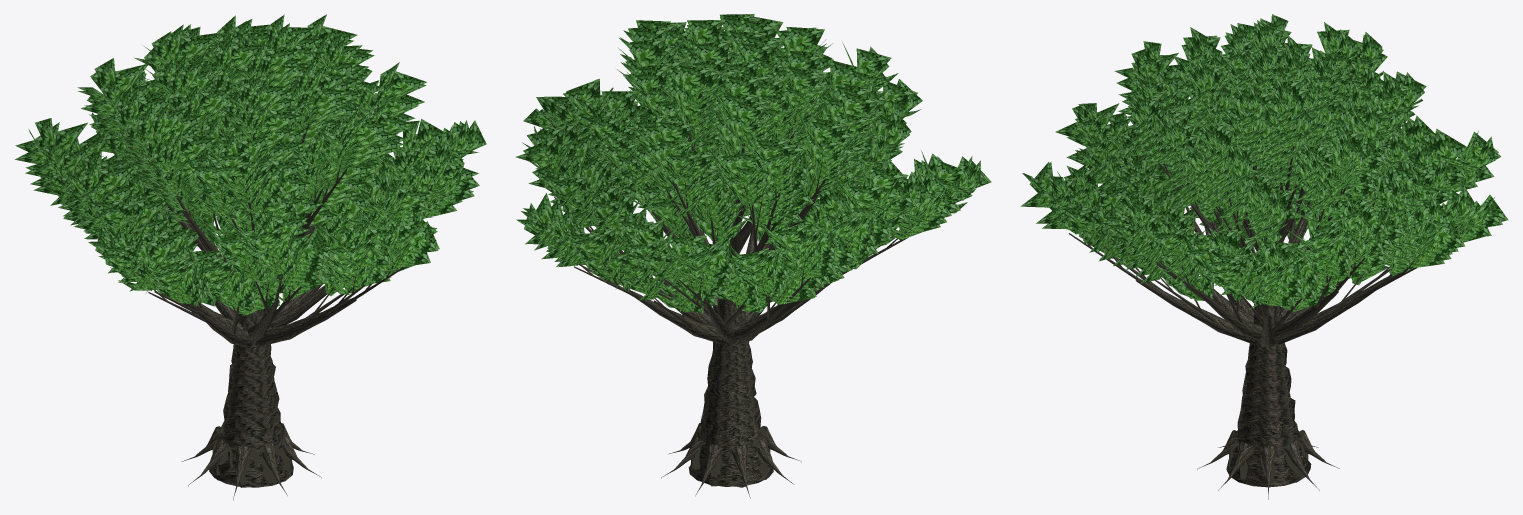
The model's file is tree_large.obj.
3 renders of one model, left to right at view 1: azimuth 30°, elevation 25°; view 2: azimuth 150°, elevation 25°; view 3: azimuth 270°, elevation 25°, orthographic.
Visible parts, largest first — view 1: tree_large; view 2: tree_large; view 3: tree_large.
Part boxes in pixels (x1,y1,x2,y2): tree_large: (15,14,486,500); tree_large: (515,14,991,498); tree_large: (1020,14,1508,499).
Size of the model in its own units: 58.88 by 59.53 by 60.2.
Materials: 2 (2 with a texture image).
